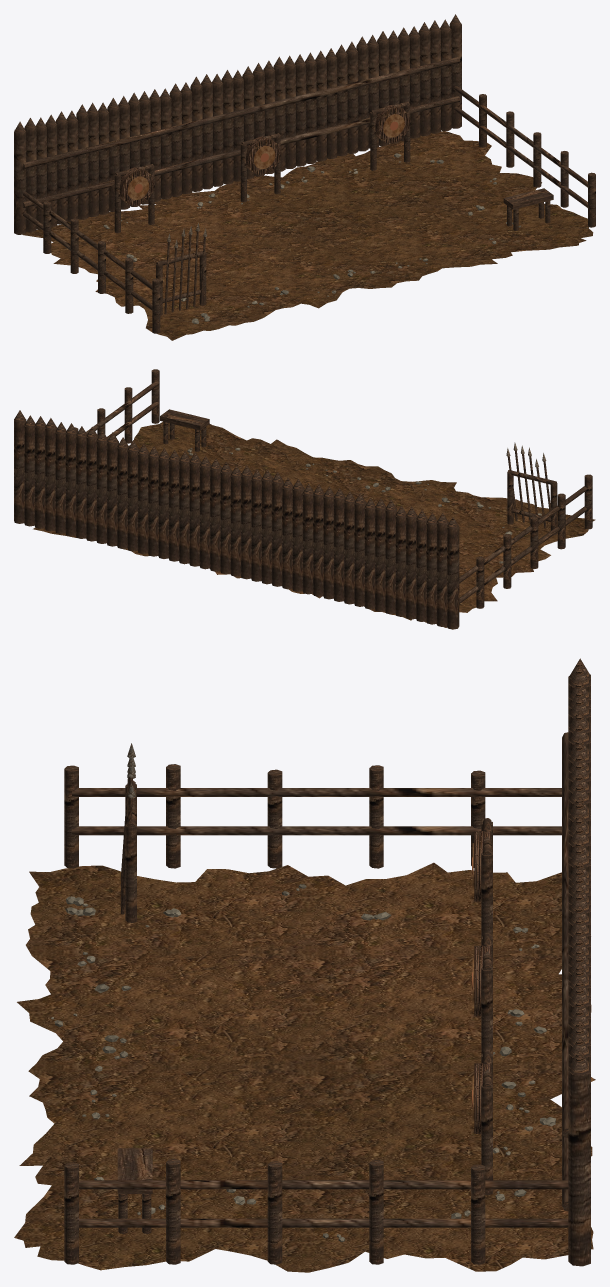
The model's file is archery.glb.
3 renders of one model, top to bottom at view 1: azimuth 30°, elevation 25°; view 2: azimuth 150°, elevation 25°; view 3: azimuth 270°, elevation 25°, orthographic. The views are drawn at different scales.
Visible parts, largest first — view 1: part_2, part_0, part_3, part_4, part_1; view 2: part_2, part_0, part_1; view 3: part_0, part_2, part_1, part_3.
Part boxes in pixels (x1,y1,x2,y2): part_2: [14, 14, 595, 333]; part_0: [23, 131, 593, 340]; part_3: [119, 104, 409, 205]; part_4: [127, 114, 404, 199]; part_1: [103, 153, 520, 323]; part_2: [14, 369, 592, 629]; part_0: [33, 422, 595, 627]; part_1: [187, 447, 541, 566]; part_0: [14, 862, 595, 1272]; part_2: [64, 658, 590, 1266]; part_1: [51, 884, 555, 1241]; part_3: [474, 831, 490, 1133].
Size of the model in its own units: 7.59 by 1.85 by 4.55.
7 materials, 6 textured.
